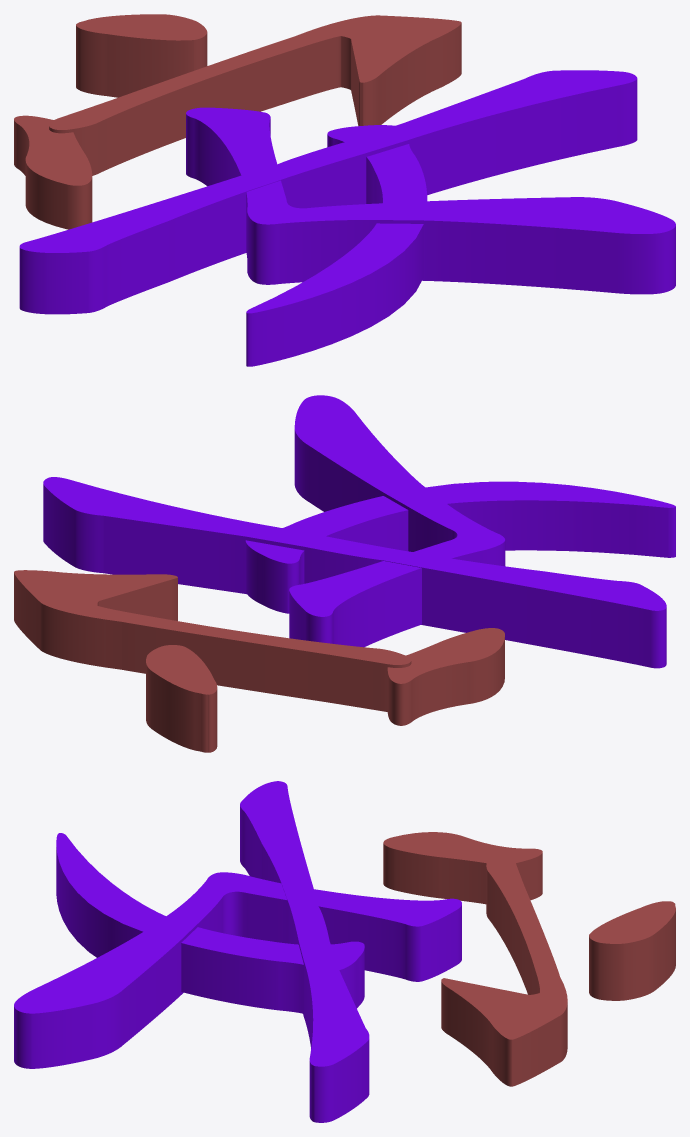
The model's file is hanzi108.fbx.
The picture shows the model from 3 angles, top to bottom: view 1: azimuth 30°, elevation 25°; view 2: azimuth 150°, elevation 25°; view 3: azimuth 270°, elevation 25°; orthographic projection. The views are drawn at different scales.
Parts seen in each view (by area): view 1: Curve.005, Curve.003, Curve.002, Curve.004, Curve, Curve.001; view 2: Curve.005, Curve.002, Curve.003, Curve.004, Curve.001, Curve; view 3: Curve.003, Curve.005, Curve.004, Curve.002, Curve.001, Curve.
Part boxes in pixels (x1,y1,x2,y2): Curve.005: (19,70,637,314); Curve.003: (186,107,675,294); Curve.002: (49,15,461,175); Curve.004: (246,125,427,366); Curve: (76,14,207,97); Curve.001: (14,115,92,229); Curve.005: (43,477,666,668); Curve.002: (14,570,411,711); Curve.003: (289,395,505,647); Curve.004: (245,481,675,613); Curve.001: (387,628,504,725); Curve: (146,645,217,752); Curve.003: (14,872,461,1068); Curve.005: (240,781,369,1122); Curve.004: (56,833,364,1013); Curve.002: (441,853,567,1086); Curve.001: (383,832,542,904); Curve: (589,901,675,1000).
Bounding box in the file's own units: 25.32 × 24.8 × 2.35.
